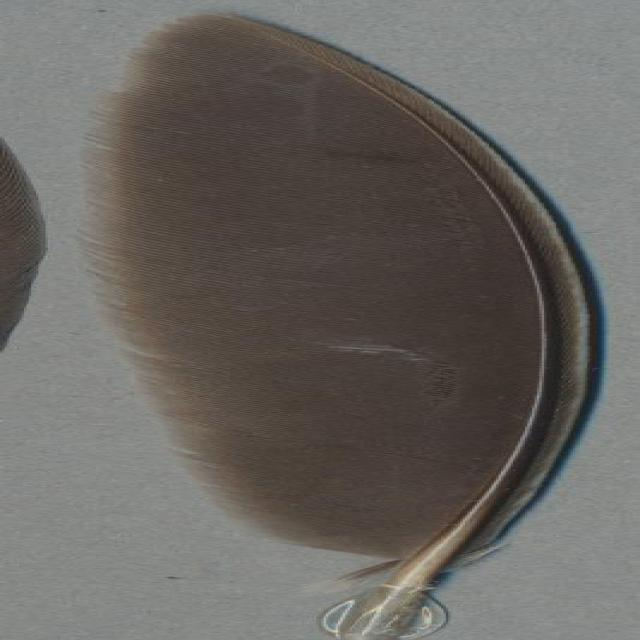feather: (66, 10, 611, 640)
